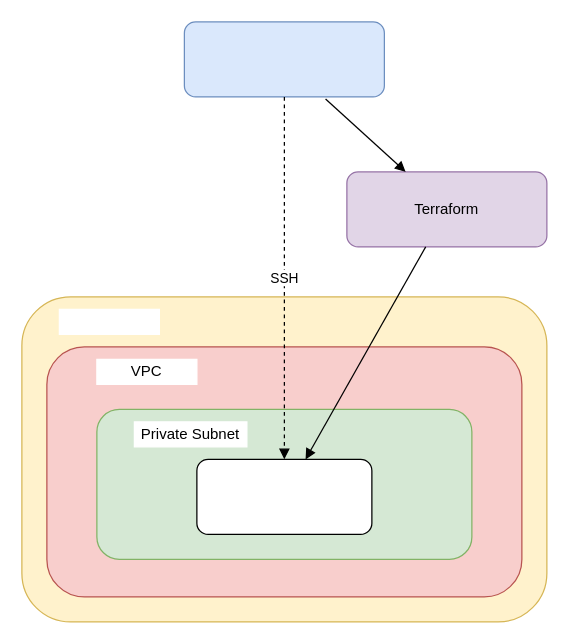
Some shapes in this 569 by 644 pixel diagram are drawn without their labels. The shapes that lost their labels are listed below. From the top down, each one's centre as x and y in pixels, then its label:
At (x=283, y=59): "User / Developer".
At (x=108, y=321): "AWS Cloud".
At (x=284, y=496): "EC2 Instance".
